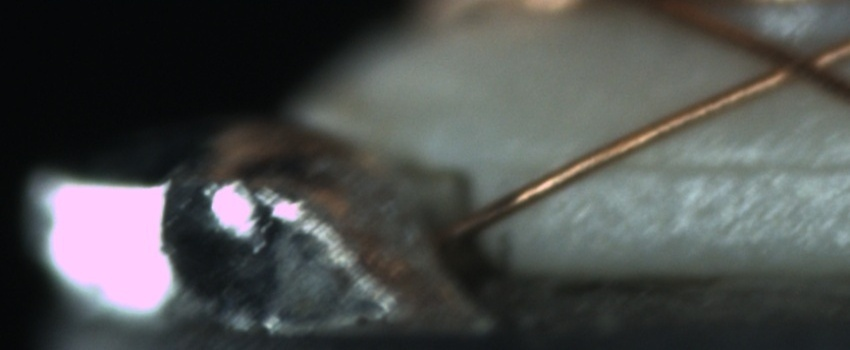CL: (753, 30, 841, 92)
DL: (563, 133, 847, 199)
